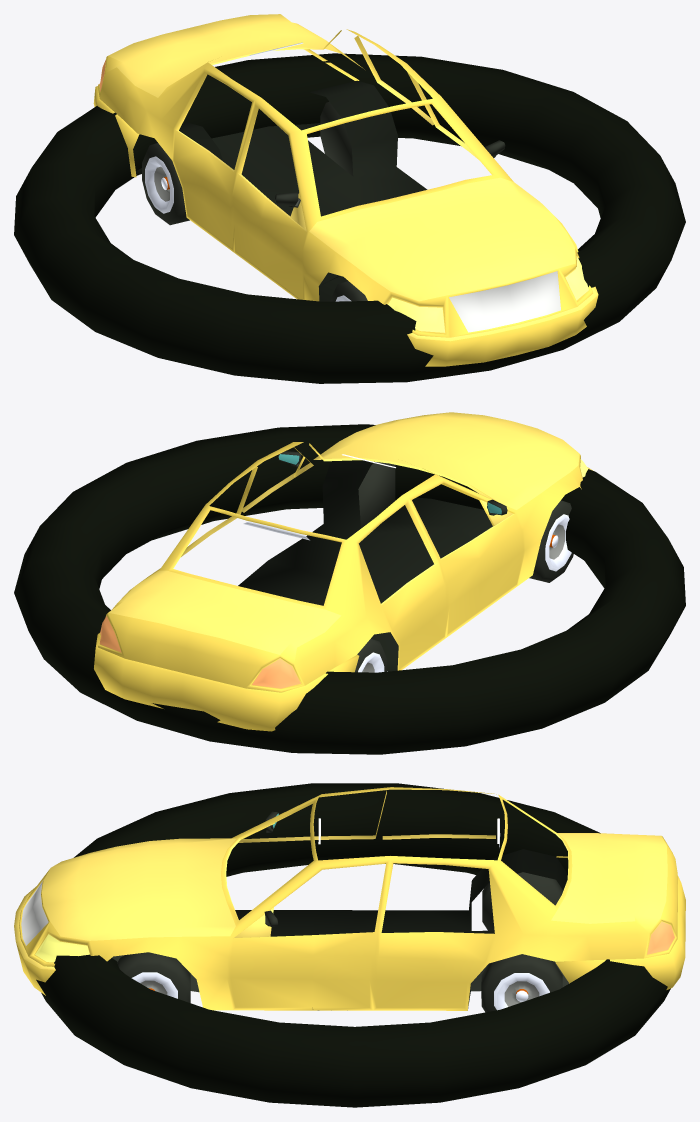
File: Topless_taxi.glb
3 renders of one model, top to bottom at view 1: azimuth 30°, elevation 25°; view 2: azimuth 150°, elevation 25°; view 3: azimuth 270°, elevation 25°, orthographic.
Visible parts, largest first — view 1: Taxi; view 2: Taxi; view 3: Taxi.
Boxes of the visible parts, bbox=[...] form: Taxi: bbox=[14, 14, 685, 383]; Taxi: bbox=[14, 412, 685, 754]; Taxi: bbox=[14, 783, 685, 1107].
Size of what is drawn, in the model's own units: 6.37 by 1.73 by 6.49.
Materials: 1 (1 with a texture image).
